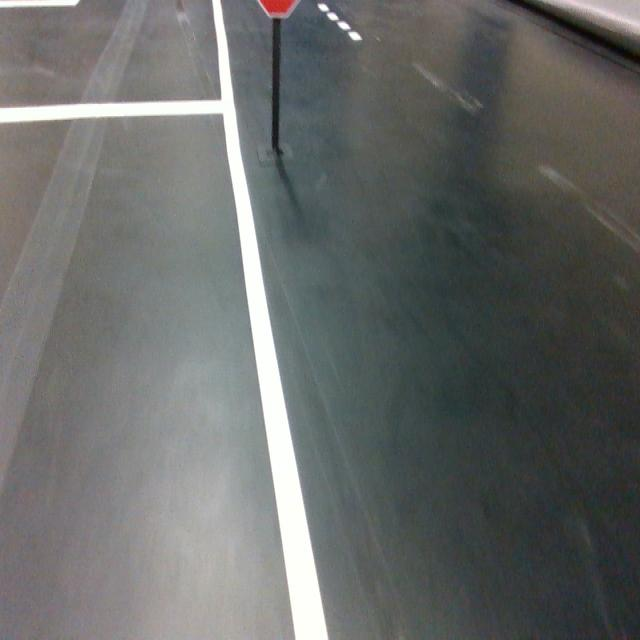stop-sign: (256, 0, 301, 19)
